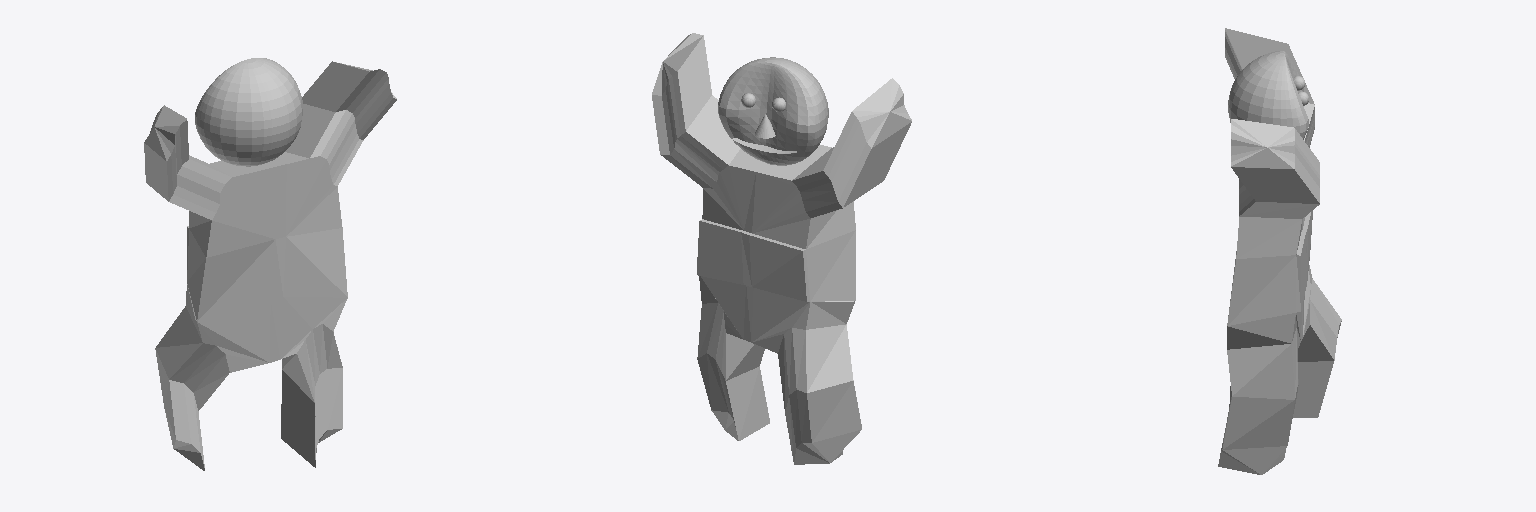
File: man_000027.obj
The picture shows the model from 3 angles: view 1: azimuth 30°, elevation 25°; view 2: azimuth 150°, elevation 25°; view 3: azimuth 270°, elevation 25°; orthographic projection.
Parts seen in each view (by area): view 1: Cube; view 2: Cube; view 3: Cube.
Boxes of the visible parts, <box> form: Cube: <box>144,58,396,470</box>; Cube: <box>652,33,911,464</box>; Cube: <box>1218,28,1341,474</box>.
Bounding box in the file's own units: 79.08 × 127 × 36.33.